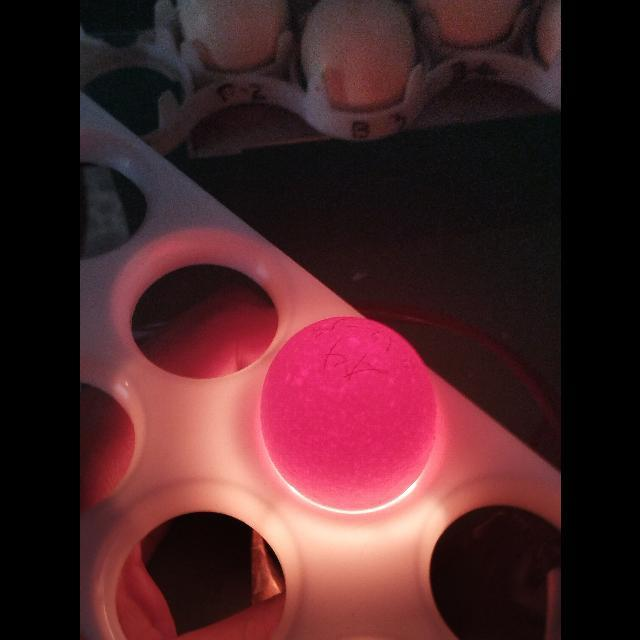Infertile: (256, 312, 442, 518)
